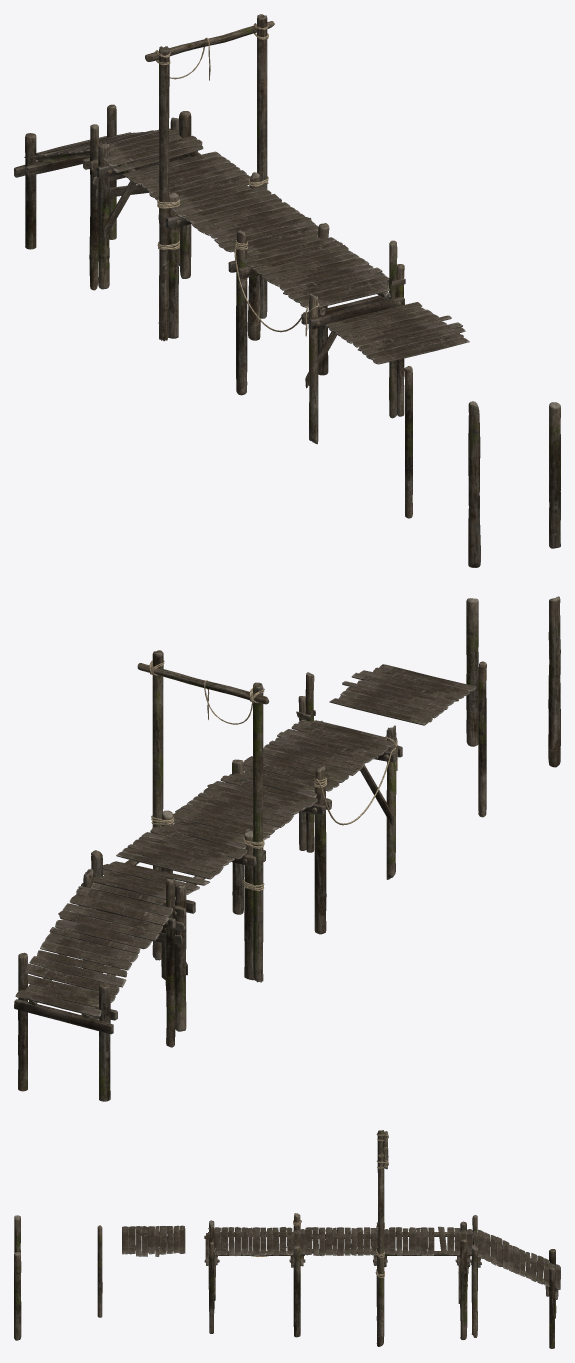
File: pier.glb
The picture shows the model from 3 angles, top to bottom: view 1: azimuth 30°, elevation 25°; view 2: azimuth 150°, elevation 25°; view 3: azimuth 270°, elevation 25°; orthographic projection. The views are drawn at different scales.
Visible parts, largest first — view 1: modular_wooden_pier_planks, modular_wooden_pier_section_01, modular_wooden_pier_poles; view 2: modular_wooden_pier_planks, modular_wooden_pier_section_01, modular_wooden_pier_poles; view 3: modular_wooden_pier_planks, modular_wooden_pier_section_01, modular_wooden_pier_poles.
Part boxes in pixels (x1,y1,x2,y2): modular_wooden_pier_planks: [14, 23, 469, 388]; modular_wooden_pier_section_01: [25, 14, 404, 444]; modular_wooden_pier_poles: [404, 366, 560, 567]; modular_wooden_pier_planks: [14, 660, 476, 1034]; modular_wooden_pier_section_01: [18, 650, 396, 1101]; modular_wooden_pier_poles: [466, 596, 560, 817]; modular_wooden_pier_planks: [122, 1132, 560, 1303]; modular_wooden_pier_section_01: [204, 1130, 558, 1348]; modular_wooden_pier_poles: [14, 1215, 102, 1340].
Size of the model in its own units: 3.1 by 7.52 by 19.03.
Materials: 2 (2 with a texture image).
